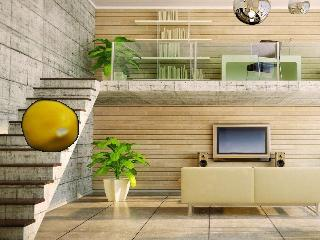lemon: (23, 100, 78, 151)
